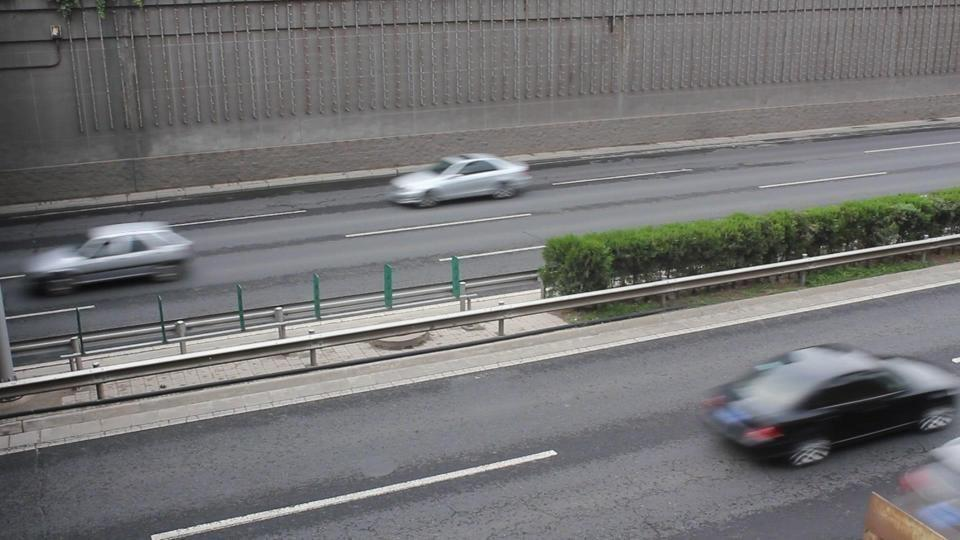car: (697, 344, 960, 468), (22, 223, 195, 297), (863, 436, 960, 538), (385, 154, 533, 208)
